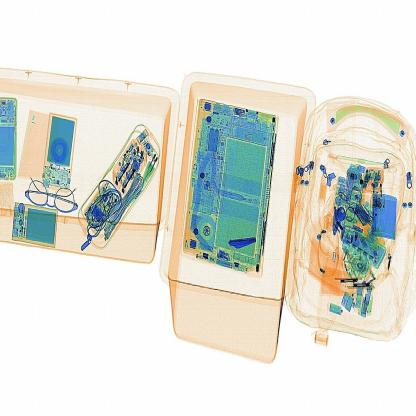knife: (223, 232, 260, 257)
